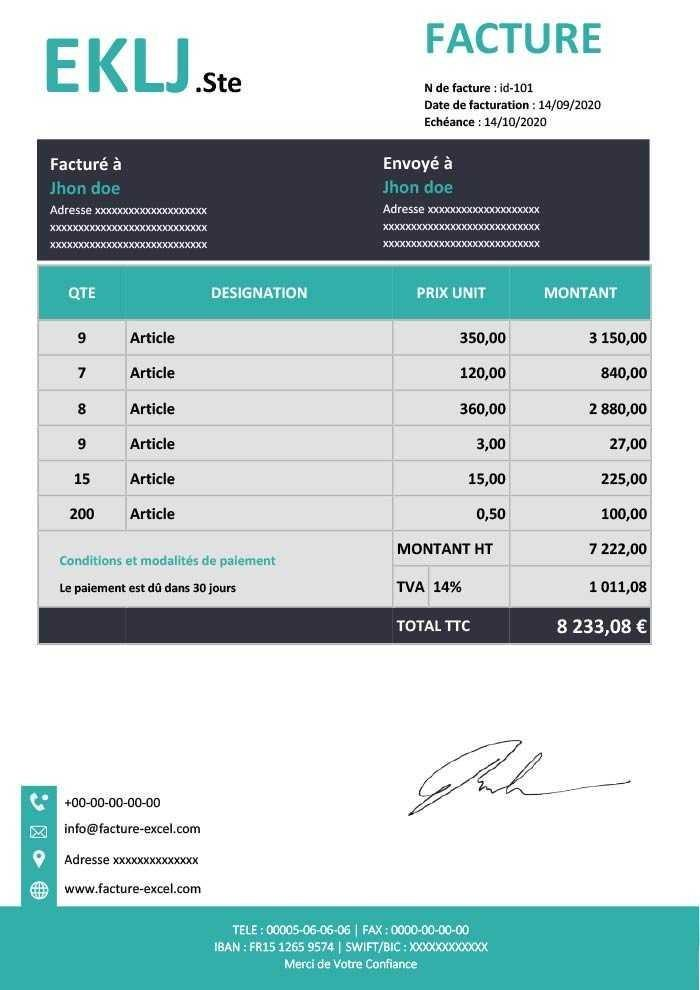ROI: (47, 322, 662, 527), (377, 538, 660, 642), (35, 20, 280, 112), (41, 149, 245, 254), (53, 549, 291, 600), (422, 81, 620, 136)
